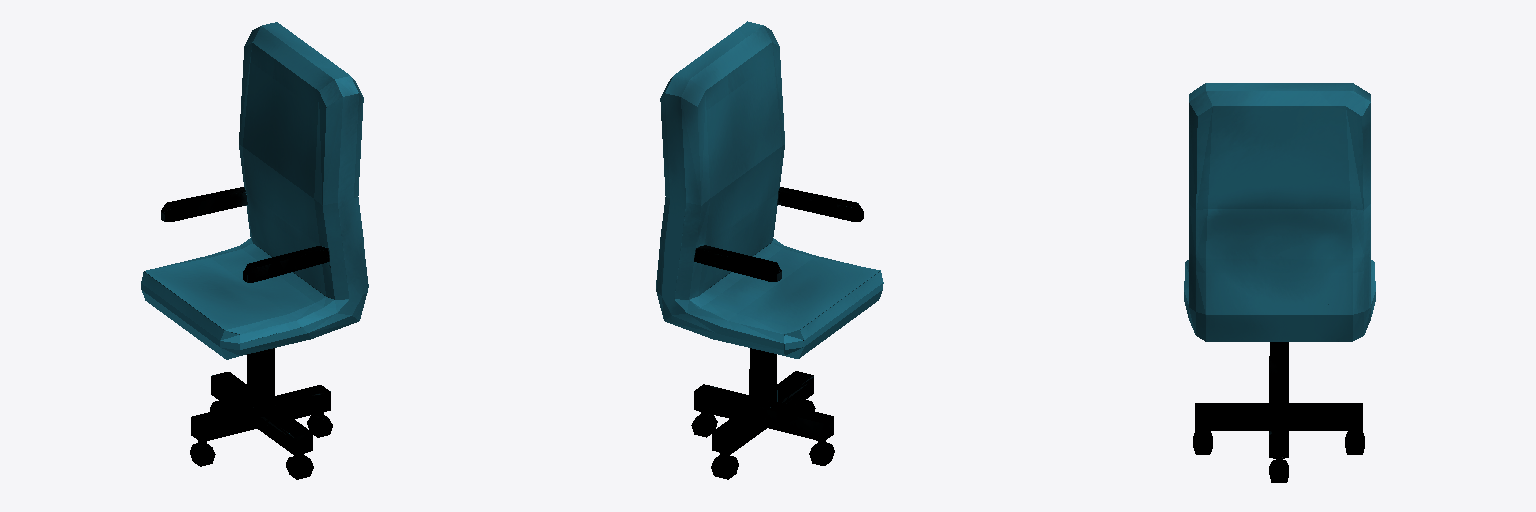
3 views of the same model, side by side, from view 1: azimuth 30°, elevation 25°; view 2: azimuth 150°, elevation 25°; view 3: azimuth 270°, elevation 25° (orthographic).
Visible parts, largest first — view 1: Silla; view 2: Silla; view 3: Silla.
Part boxes in pixels (left/top/right/bottom): Silla: left=141, top=22, right=368, bottom=479; Silla: left=656, top=21, right=883, bottom=479; Silla: left=1184, top=83, right=1375, bottom=482.
Size of the model in its own units: 0.6354 by 1.55 by 0.6959.
Materials: 1 (1 with a texture image).